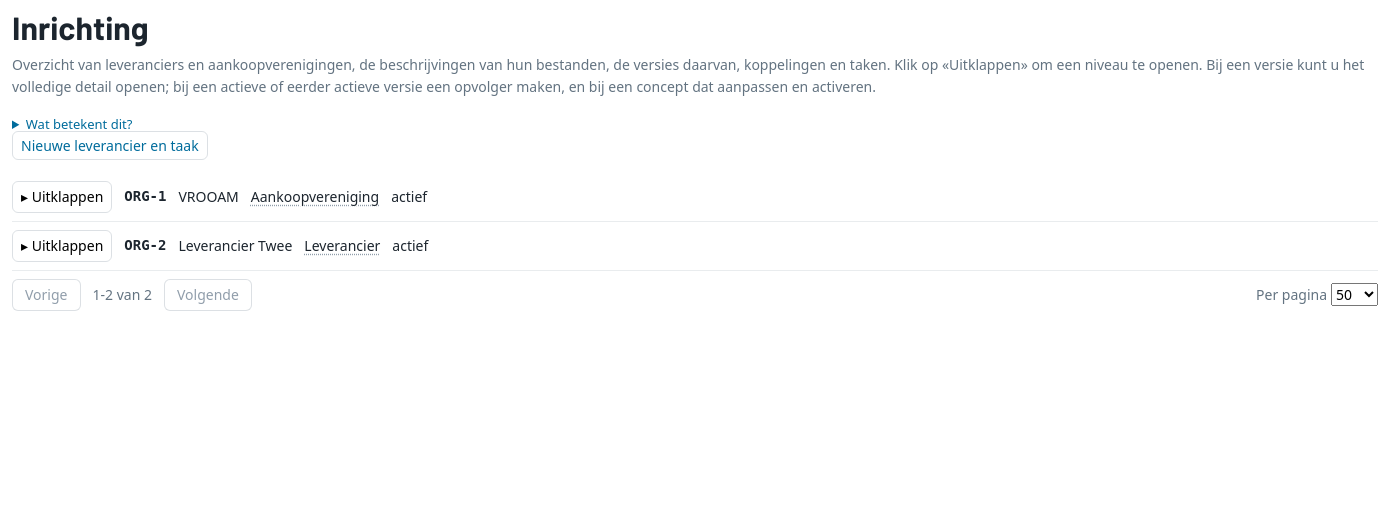
Scenario: SetupOverviewPage › S1-F1.2: klapt een organisatie uit en laadt lazy de definitielijst
This screenshot has width=1390, height=524.
Expected: the text "ORG-1" is shown, [124, 186, 166, 208]
Click the button "▸ Uitklappen" next to "ORG-1" at (62, 197), box [12, 181, 112, 213]
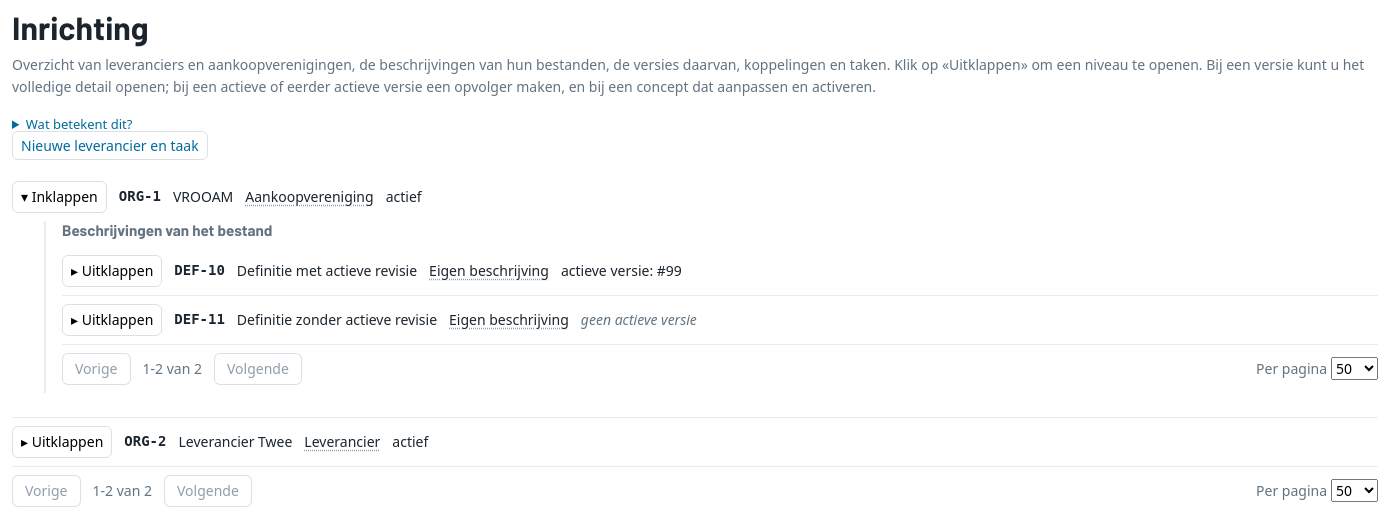
Expected: the text "DEF-10" is shown, [174, 260, 225, 282]
Expected: the text "DEF-11" is shown, [174, 309, 225, 331]
